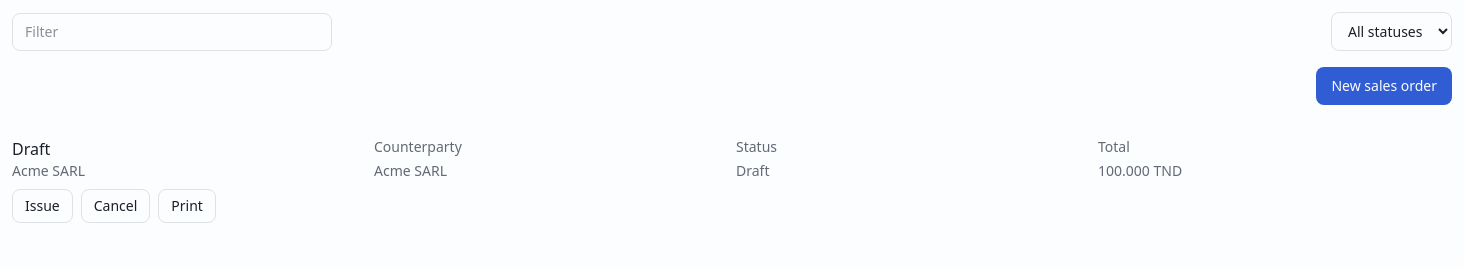
DocumentList actions › shows the generic conflict message for an already-issued order
Click the button "Issue": point(42, 206) [12,189,73,223]
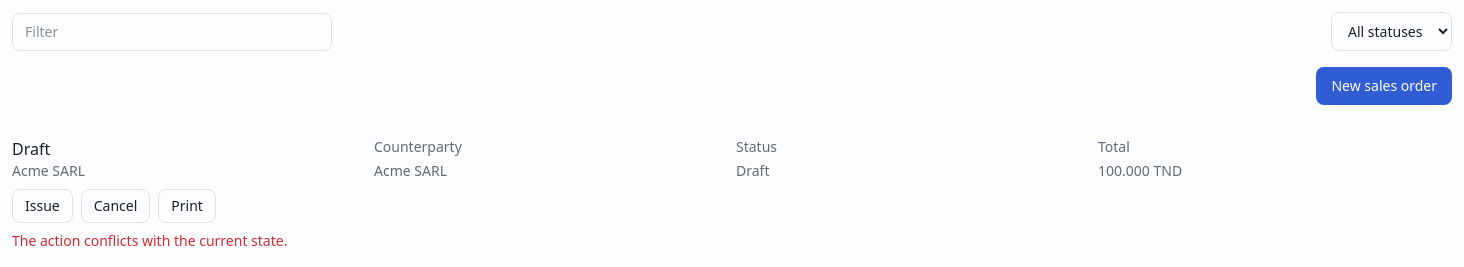
Check: the message reads "The action conflicts with the current state.", box [12,231,287,250]
